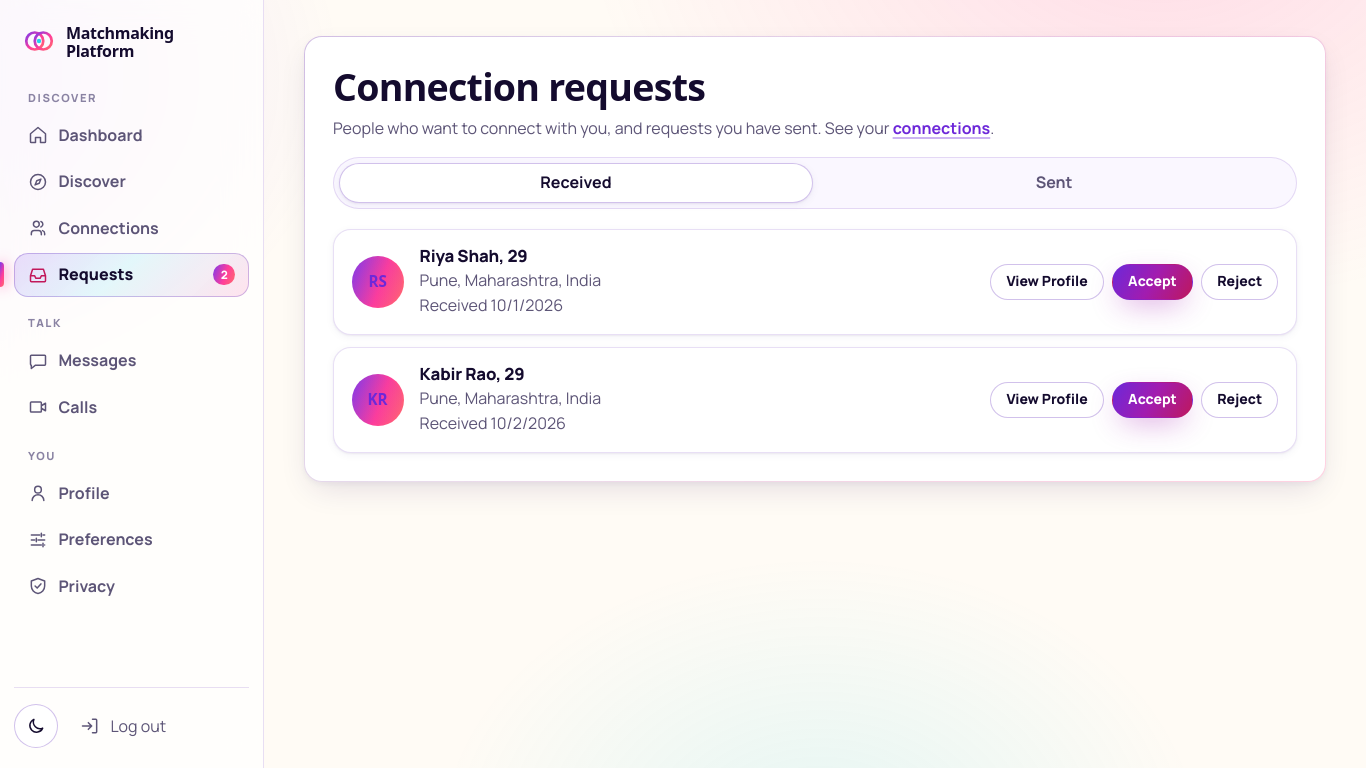
Test: connection requests page › accepts and rejects received requests and reloads the list
Expected: the text "Pune, Maharashtra, India" below "Riya Shah" is shown, [420,269,601,291]
Click the button "Accept" in the row of "RS" at x=1152, y=282, box [1112,264,1193,300]
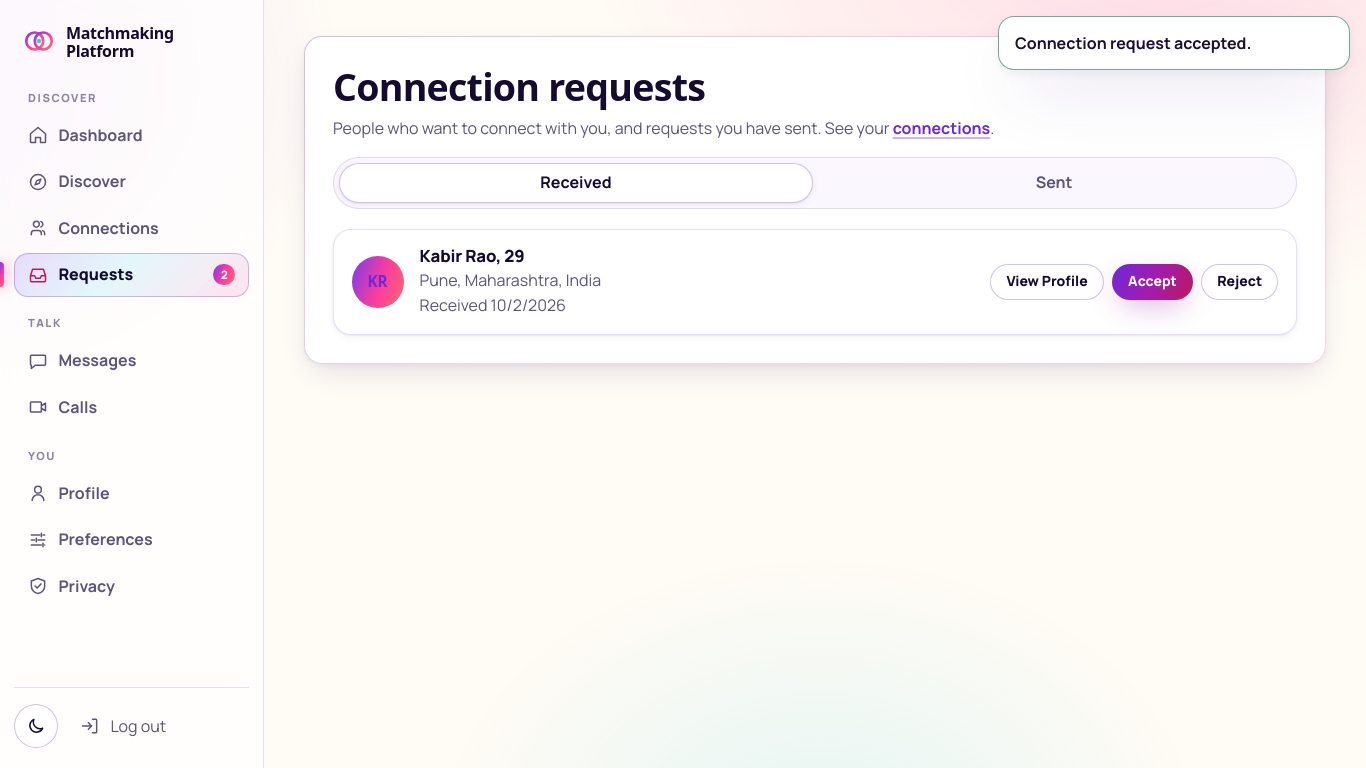
Expected: the text "Connection request accepted." is shown, [998,16,1350,70]
Expected: the heading "Riya Shah, 29" is gone
Click the button "Reject" at x=1240, y=282, box [1201,264,1278,300]
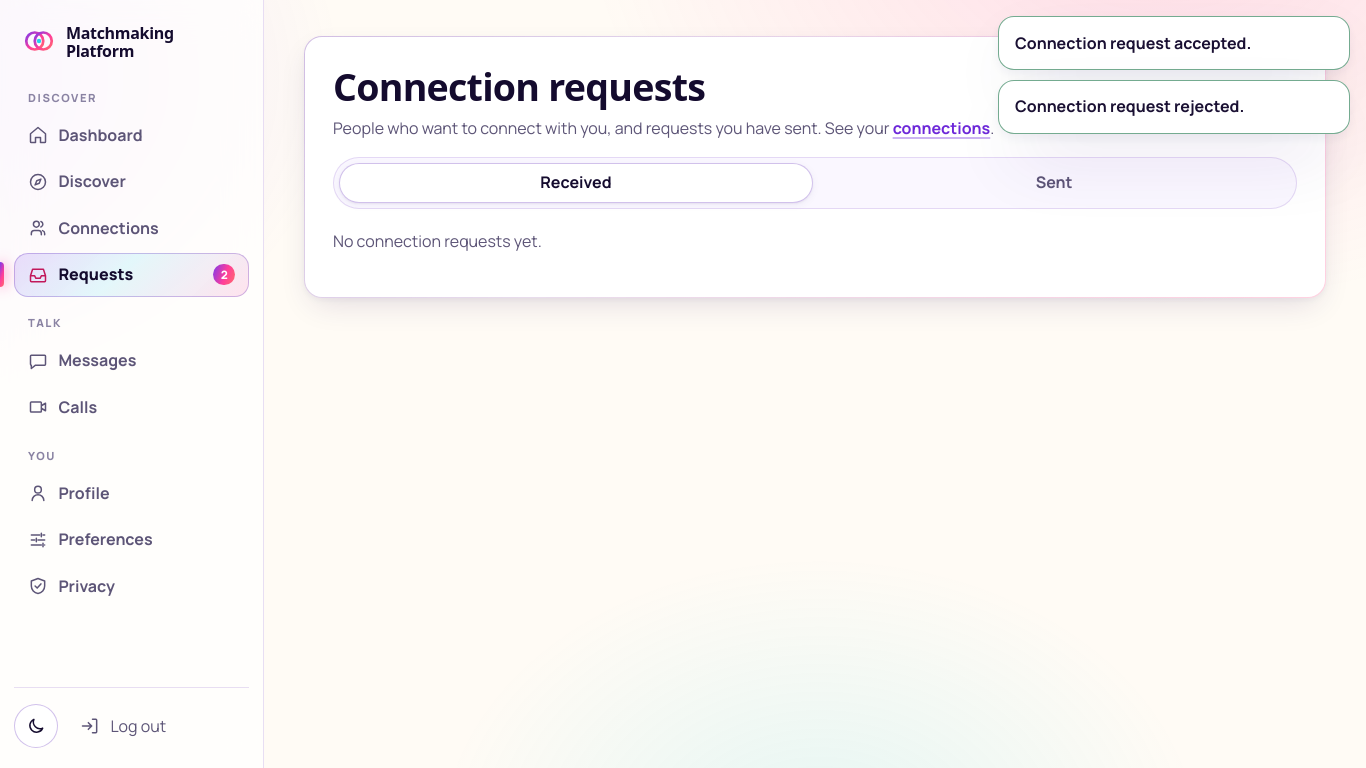
Expected: the text "No connection requests yet." is shown, [333,230,542,252]
Expected: the text "Connection request rejected." is shown, [998,80,1350,134]
